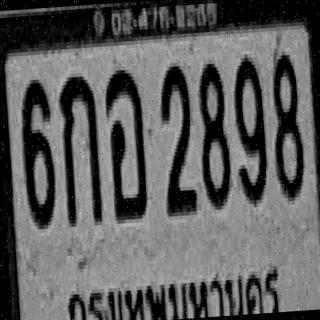A01: (58, 72, 103, 224)
A43: (102, 67, 149, 218)
N02: (157, 62, 197, 213)
N06: (18, 75, 57, 226)
N08: (195, 59, 232, 207), (268, 51, 305, 198)
N09: (230, 55, 269, 202)
